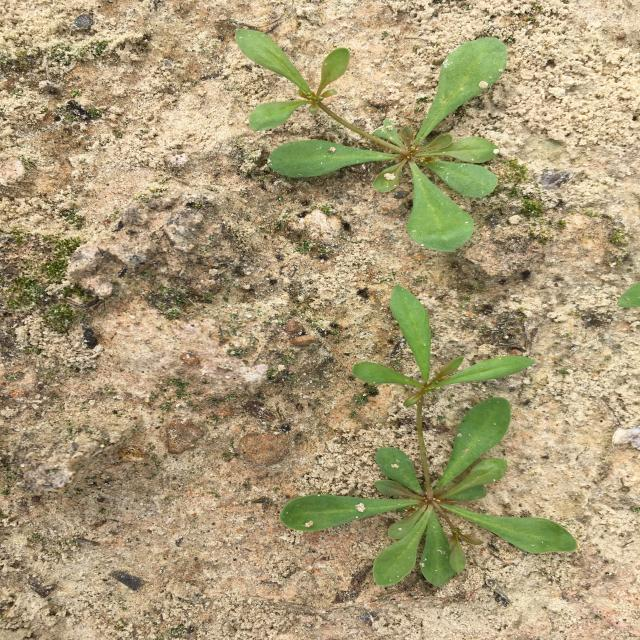Carpetweed: (279, 284, 577, 588), (235, 29, 508, 252)
